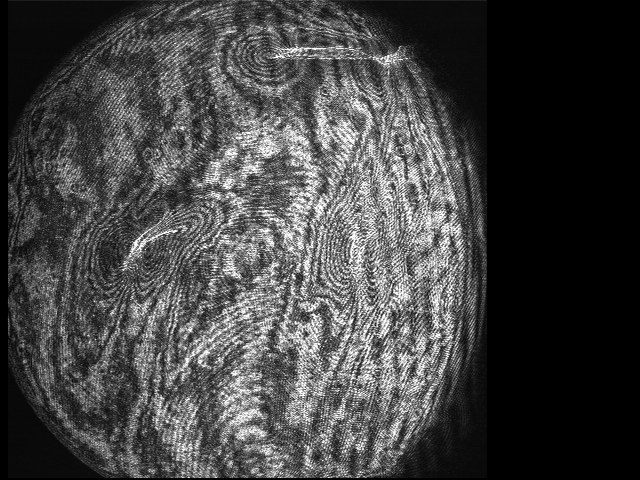plume: (86, 206, 208, 301)
